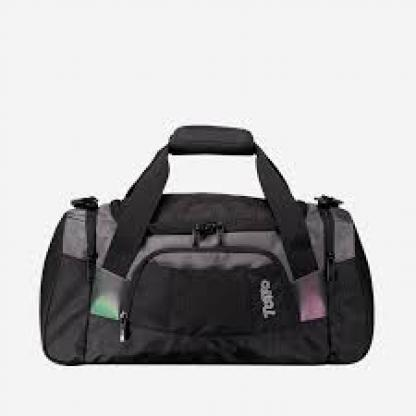morral: (31, 116, 394, 372)
